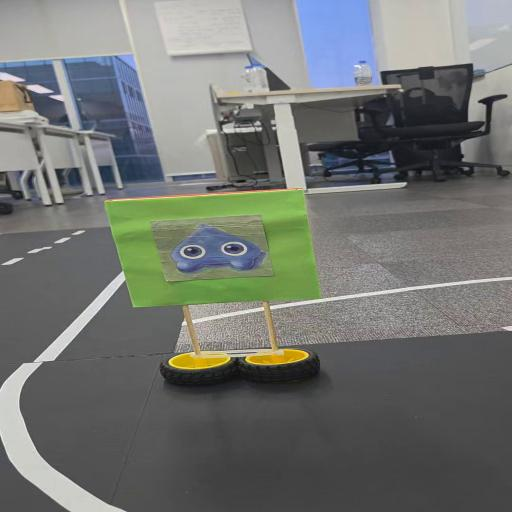Sign_B: (93, 185, 370, 393)
